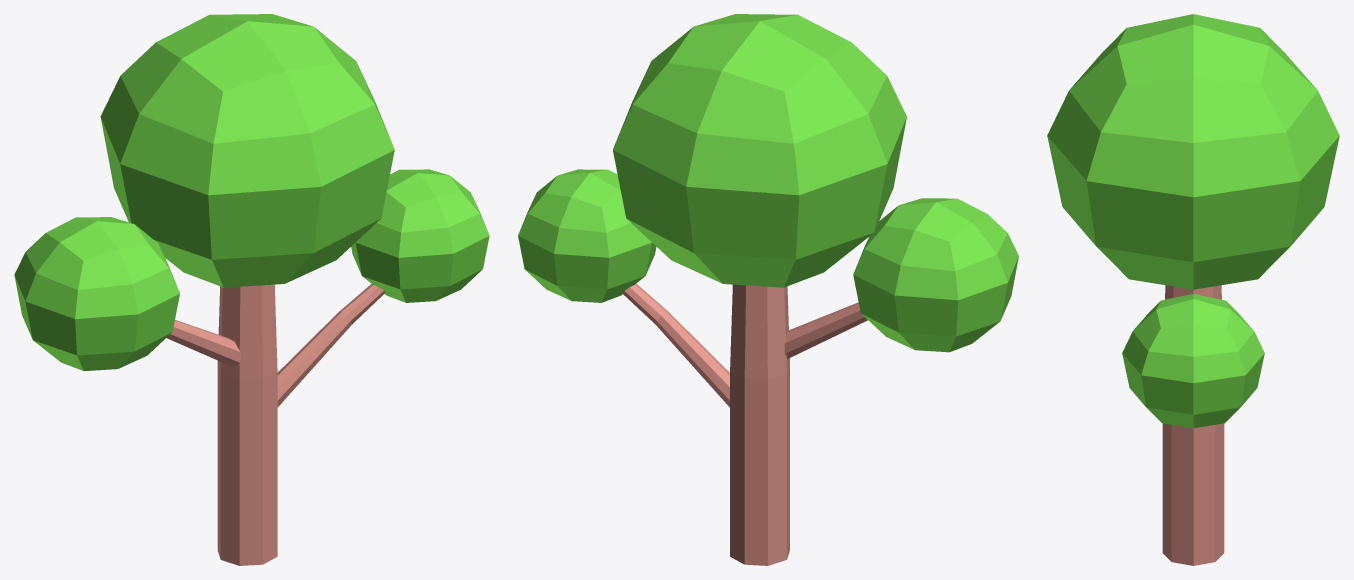
The model's file is Tree6.fbx.
3 renders of one model, left to right at view 1: azimuth 30°, elevation 25°; view 2: azimuth 150°, elevation 25°; view 3: azimuth 270°, elevation 25°, orthographic.
Visible parts, largest first — view 1: Cube; view 2: Cube; view 3: Cube.
Boxes of the visible parts, x1=… form: Cube: x1=14, y1=14, x2=489, y2=565; Cube: x1=518, y1=14, x2=1018, y2=565; Cube: x1=1047, y1=14, x2=1339, y2=565.
Bounding box in the file's own units: 7.12 × 7.74 × 3.88.
